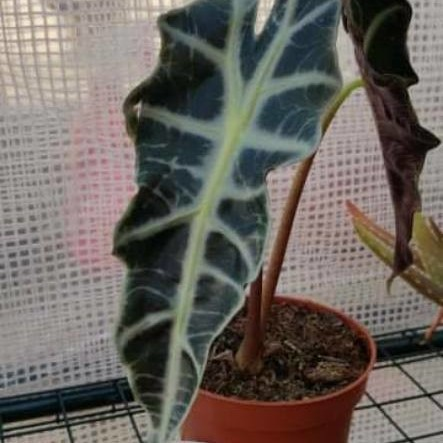obstacle: (129, 6, 395, 398)
